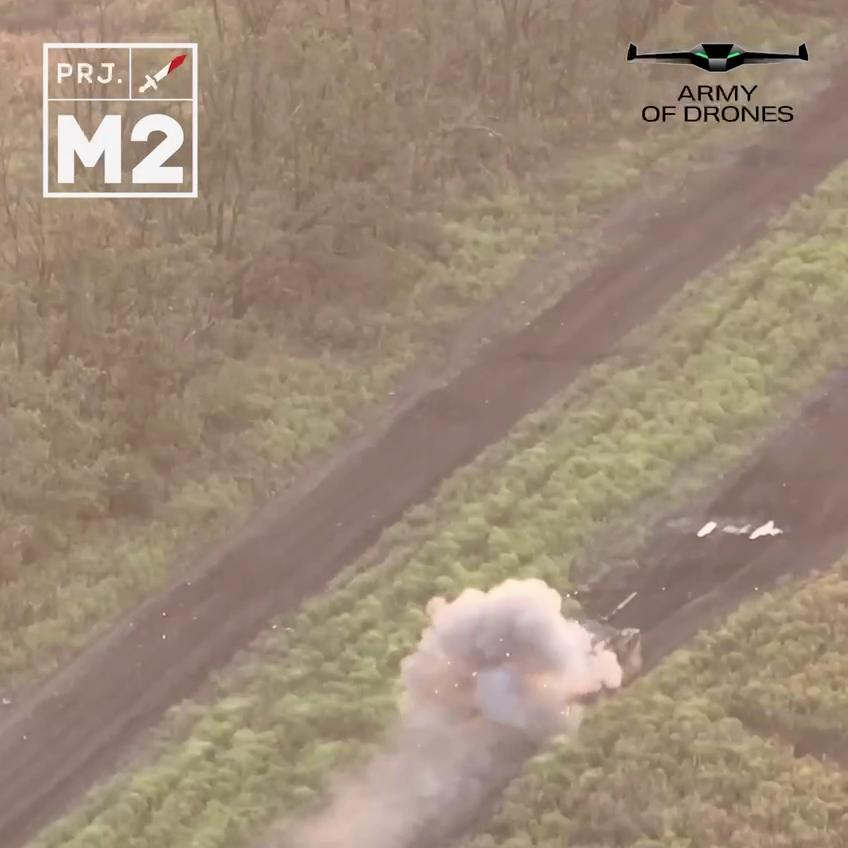tank: (497, 588, 657, 746)
